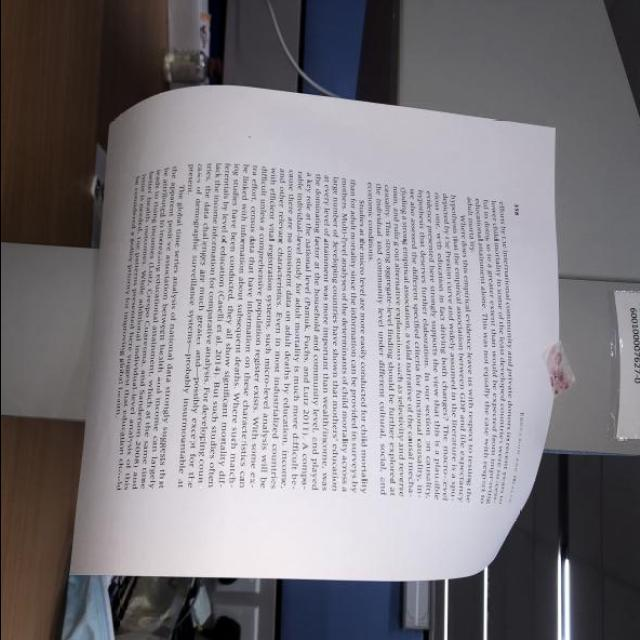kertas: (69, 76, 578, 615)
